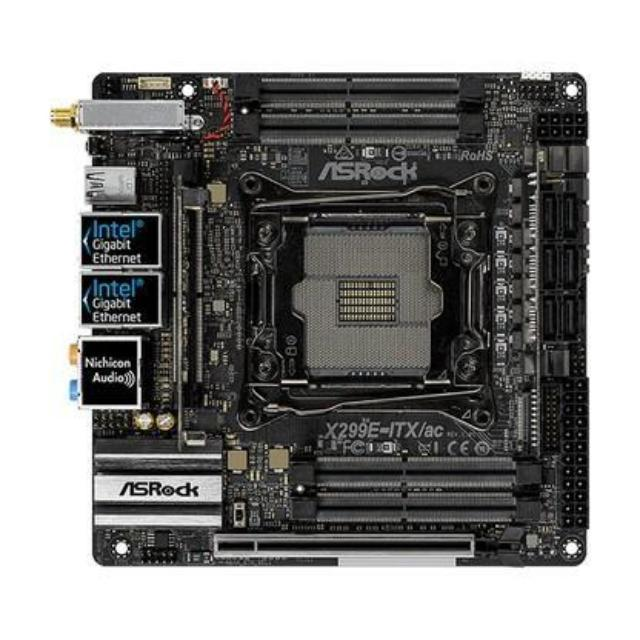Mainboard: (59, 52, 602, 580)
